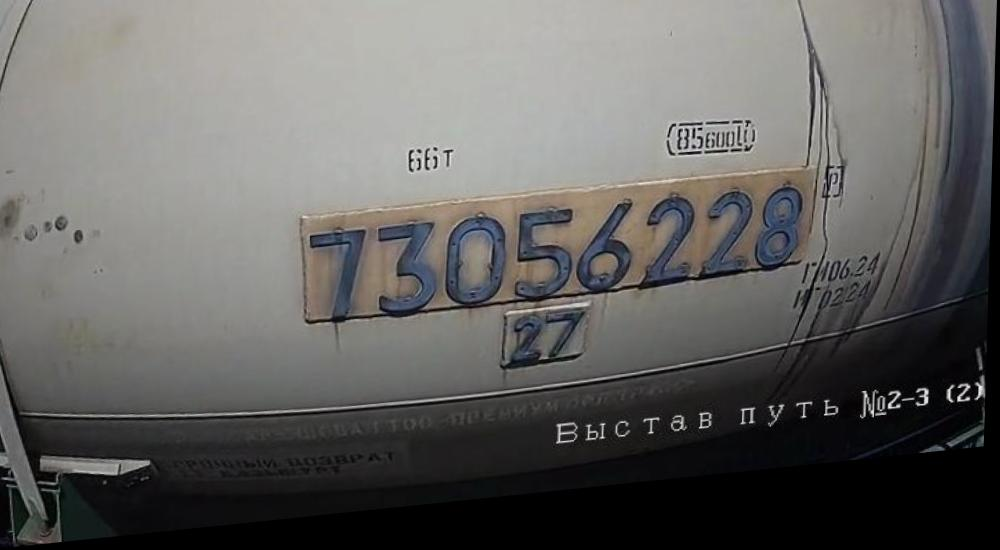Wagon-number: (304, 181, 810, 332)
